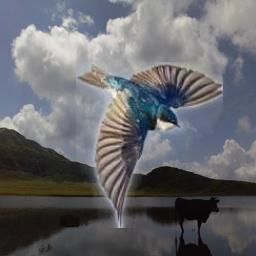Swallow: (76, 62, 223, 228)
